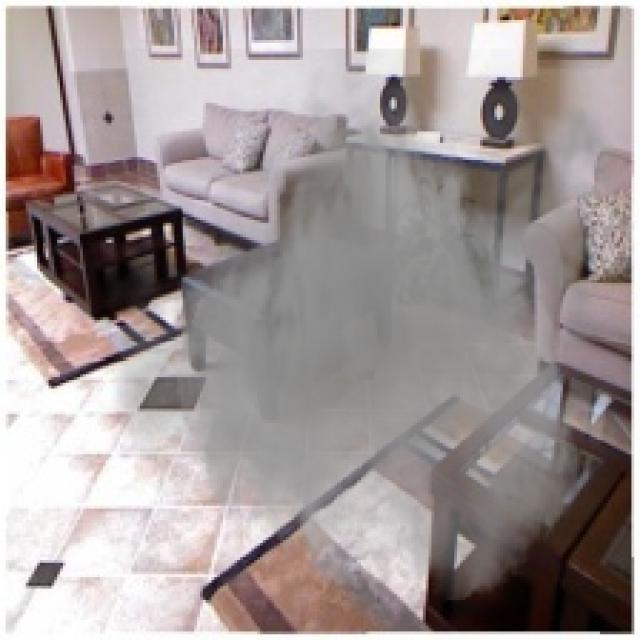smoke: (100, 49, 634, 606)
